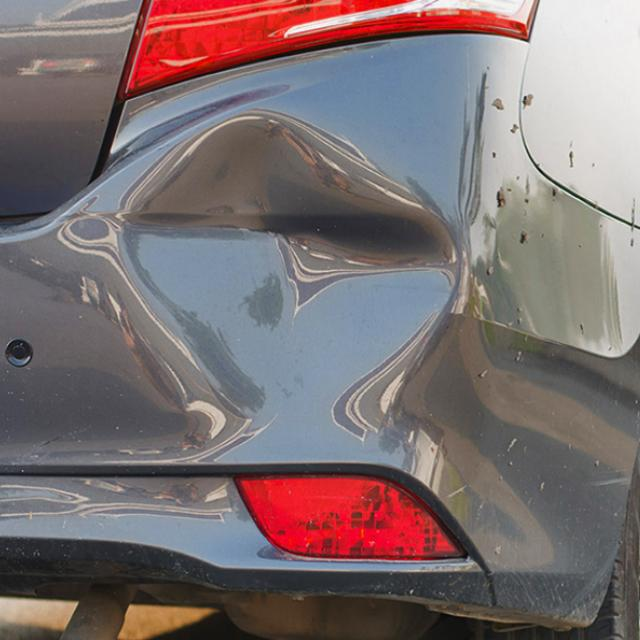dents: (111, 106, 459, 408)
